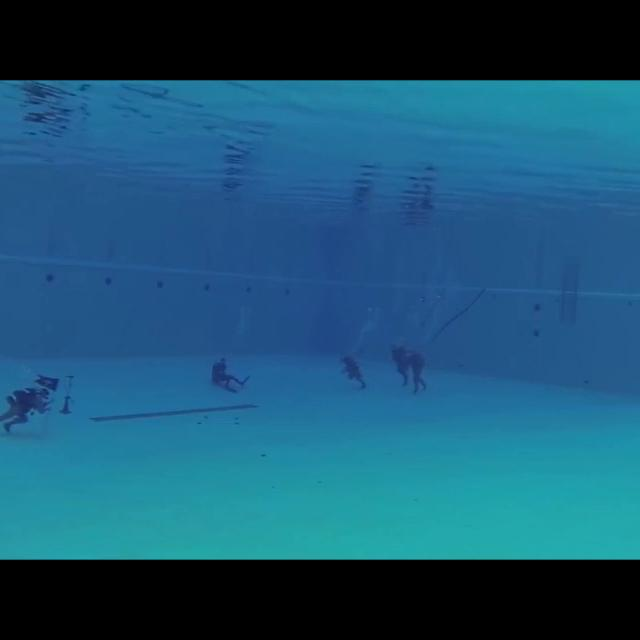human: (0, 370, 65, 438), (207, 351, 250, 398), (334, 344, 371, 392), (388, 336, 414, 389), (410, 345, 433, 400)
